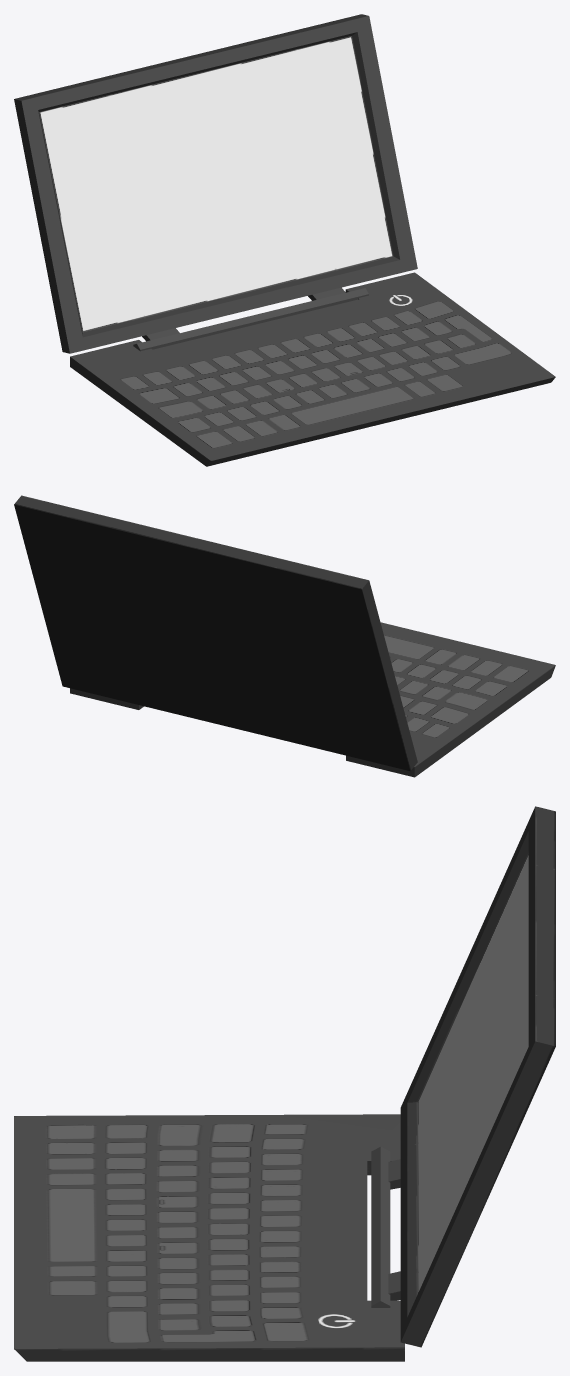
File: LaptopMesh_001.fbx
3 views of the same model, one above another, from view 1: azimuth 30°, elevation 25°; view 2: azimuth 150°, elevation 25°; view 3: azimuth 270°, elevation 25° (orthographic). The views are drawn at different scales.
Visible parts, largest first — view 1: Laptop_Screen_001, Laptop_Keypad_001; view 2: Laptop_Screen_001, Laptop_Keypad_001; view 3: Laptop_Keypad_001, Laptop_Screen_001.
Boxes of the visible parts, <box> form: Laptop_Screen_001: <box>14,14,417,353</box>; Laptop_Keypad_001: <box>70,272,555,466</box>; Laptop_Screen_001: <box>14,495,417,771</box>; Laptop_Keypad_001: <box>70,622,555,777</box>; Laptop_Keypad_001: <box>14,1114,404,1361</box>; Laptop_Screen_001: <box>371,806,555,1347</box>.
Size of the model in its own units: 0.0516 by 0.0329 by 0.0503.
